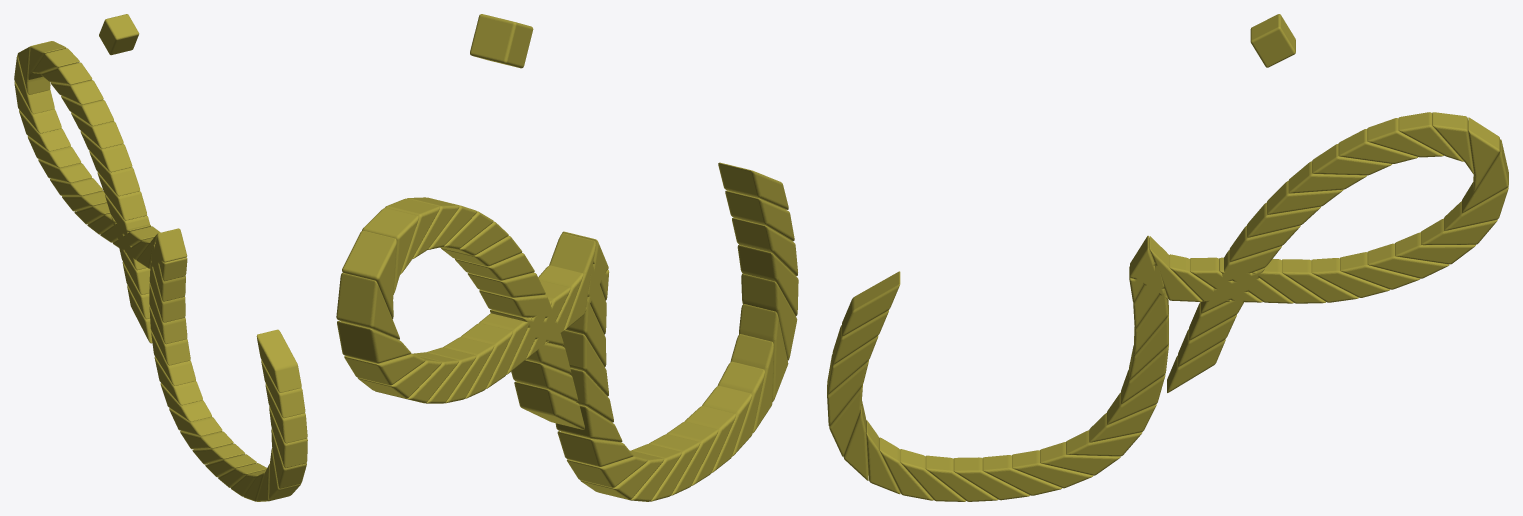
The model's file is dhad.fbx.
3 renders of one model, left to right at view 1: azimuth 30°, elevation 25°; view 2: azimuth 150°, elevation 25°; view 3: azimuth 270°, elevation 25°, orthographic. The views are drawn at different scales.
Visible parts, largest first — view 1: Cube, Cube.001; view 2: Cube, Cube.001; view 3: Cube, Cube.001.
Boxes of the visible parts, box(x1,y1,x2,y2) form: Cube: box(14, 41, 307, 501); Cube.001: box(99, 14, 139, 55); Cube: box(336, 162, 798, 501); Cube.001: box(470, 14, 533, 68); Cube: box(827, 112, 1508, 501); Cube.001: box(1250, 14, 1295, 67).
Size of the model in its own units: 60 by 913 by 1187.
